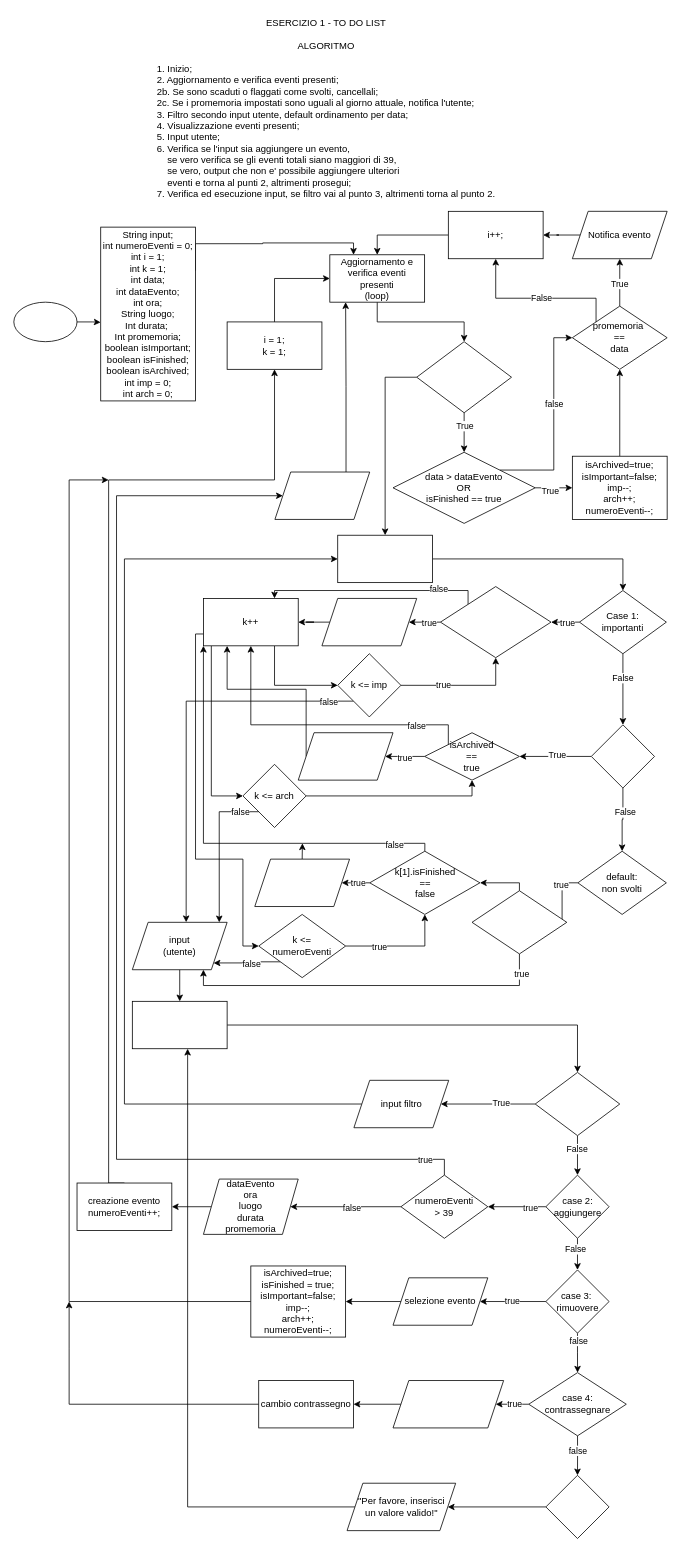
This 681x1552 diagram has some shape labels left out. The box of each missing label's shape, as (x1, y1, x2, y2) in pixels:
"Numero eventi raggiunto. Eliminare un evento per continuare.": (274, 471, 370, 519)
case 1: aggiunta filtro eventi: (534, 1072, 620, 1136)
Case 2: archiviati: (591, 724, 655, 788)
default: (545, 1475, 609, 1539)
Filtro secondo input utente: (337, 534, 433, 583)
i <= numeroEventi: (416, 341, 512, 413)
Inizio: (13, 301, 77, 342)
input: (132, 1001, 227, 1049)
isArchived: (297, 732, 393, 780)
isFinished: (254, 858, 350, 907)
isImportant: (321, 598, 417, 646)
k[1].isImportant == true: (440, 586, 551, 658)
numeroEventi == 0: (471, 890, 567, 954)
selezione evento e tipo contrassegnazione: (392, 1380, 504, 1428)
